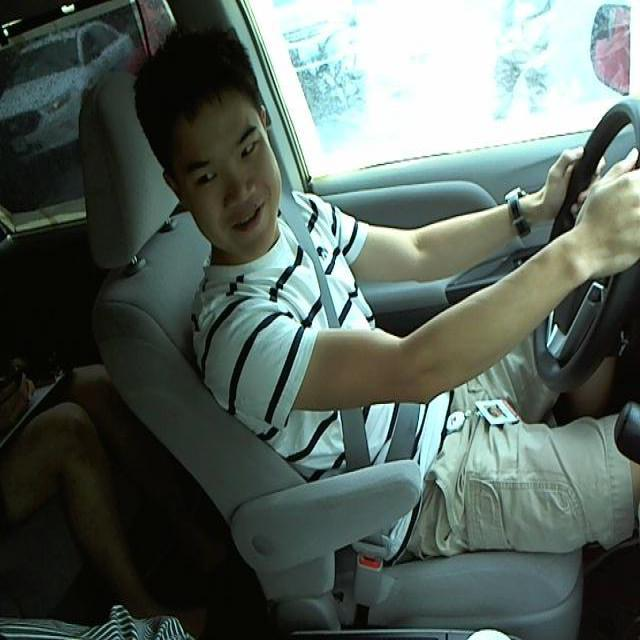seatbelt: (304, 209, 420, 464)
